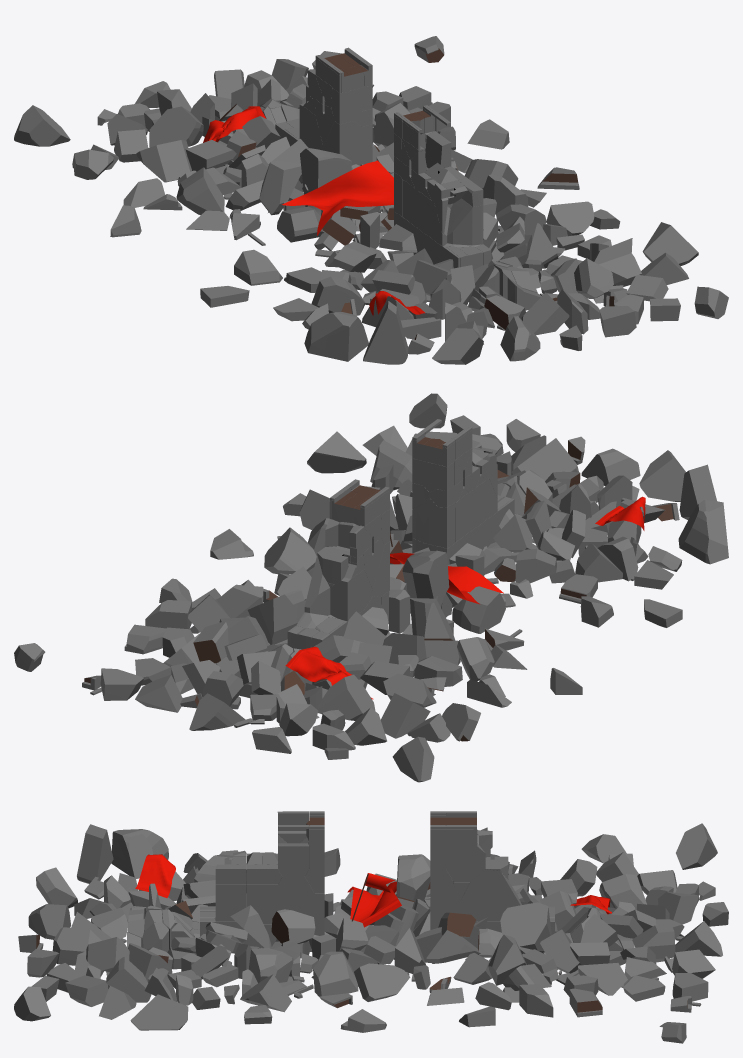
3 renders of one model, top to bottom at view 1: azimuth 30°, elevation 25°; view 2: azimuth 150°, elevation 25°; view 3: azimuth 270°, elevation 25°, orthographic. The views are drawn at different scales.
Parts seen in each view (by area): view 1: Plane.001_cell.139, Plane.003, Plane.084; view 2: Plane.001_cell.139, Plane.084, Plane.003, Plane.005; view 3: Plane.001_cell.139, Plane.003, Plane.005.
Part boxes in pixels (x1,y1,x2,y2): Plane.001_cell.139: (14, 36, 728, 364); Plane.003: (282, 160, 393, 235); Plane.084: (203, 106, 265, 142); Plane.001_cell.139: (14, 393, 728, 782); Plane.084: (285, 646, 373, 699); Plane.003: (390, 552, 503, 604); Plane.005: (595, 496, 645, 530); Plane.001_cell.139: (14, 811, 728, 1043); Plane.003: (347, 881, 401, 927); Plane.005: (135, 854, 175, 897).
Bounding box in the file's own units: 862 × 270 × 1259.
